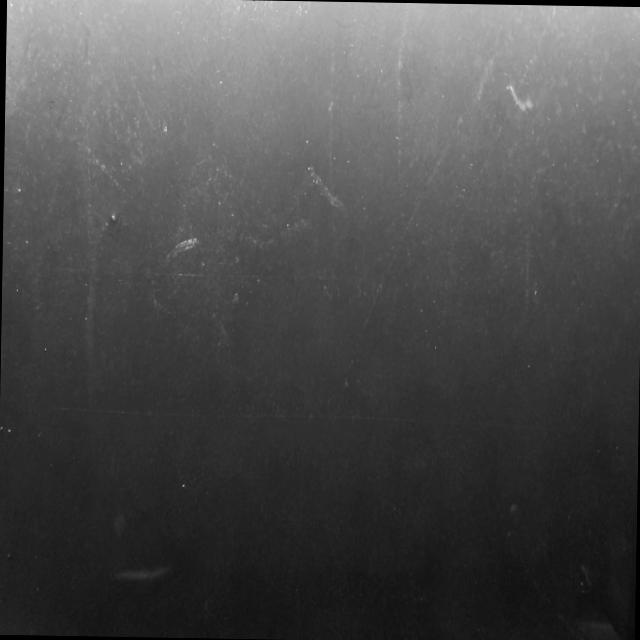beta: (341, 18, 504, 390), (470, 3, 560, 195), (146, 286, 254, 384), (509, 545, 591, 640), (56, 124, 143, 208), (390, 2, 410, 226), (120, 53, 156, 130), (82, 118, 100, 254), (518, 222, 534, 324)
